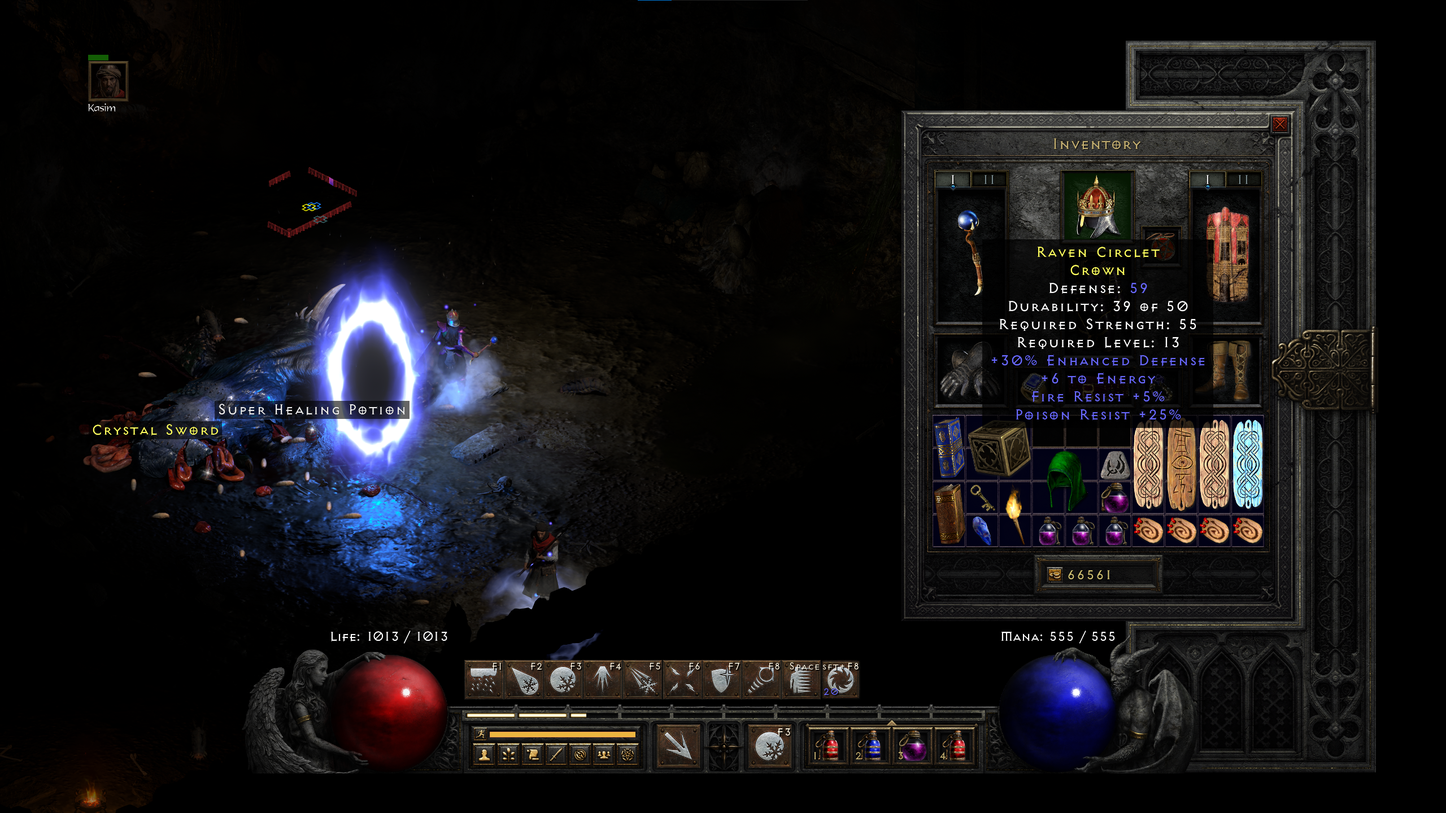tooltip: (982, 239, 1212, 428)
